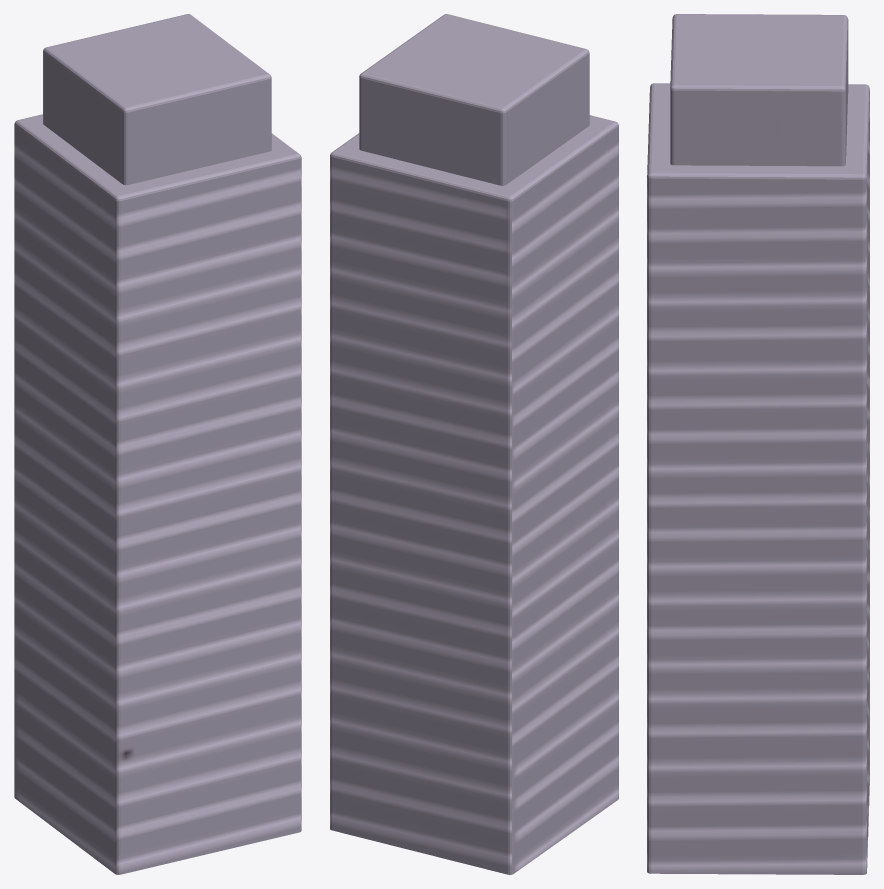
File: PrudentialBuilding_Mesh.fbx
3 renders of one model, left to right at view 1: azimuth 30°, elevation 25°; view 2: azimuth 150°, elevation 25°; view 3: azimuth 270°, elevation 25°, orthographic. The views are drawn at different scales.
Parts seen in each view (by area): view 1: Cube; view 2: Cube; view 3: Cube.
Part boxes in pixels (x1,y1,x2,y2): Cube: (14, 14, 301, 874); Cube: (330, 14, 618, 874); Cube: (647, 14, 869, 874).
Bounding box in the file's own units: 619 × 2383 × 619.
Materials: 1 (1 with a texture image).
